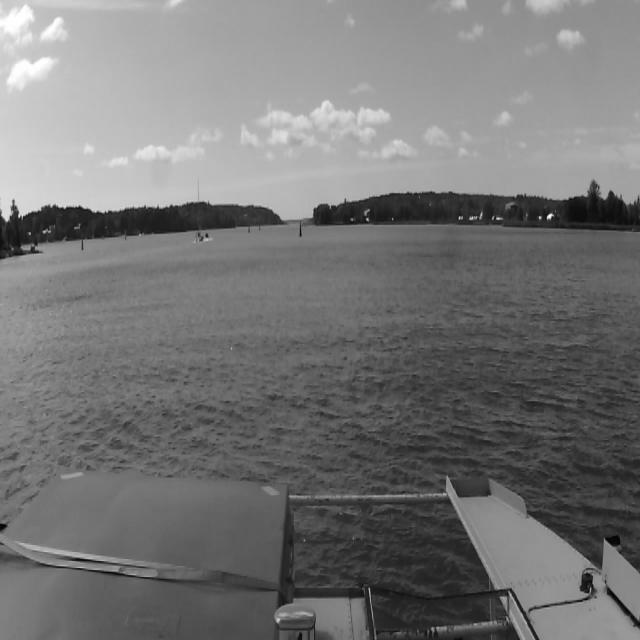buoy: (300, 222, 302, 236), (81, 236, 83, 250)
ship: (195, 179, 203, 241)
